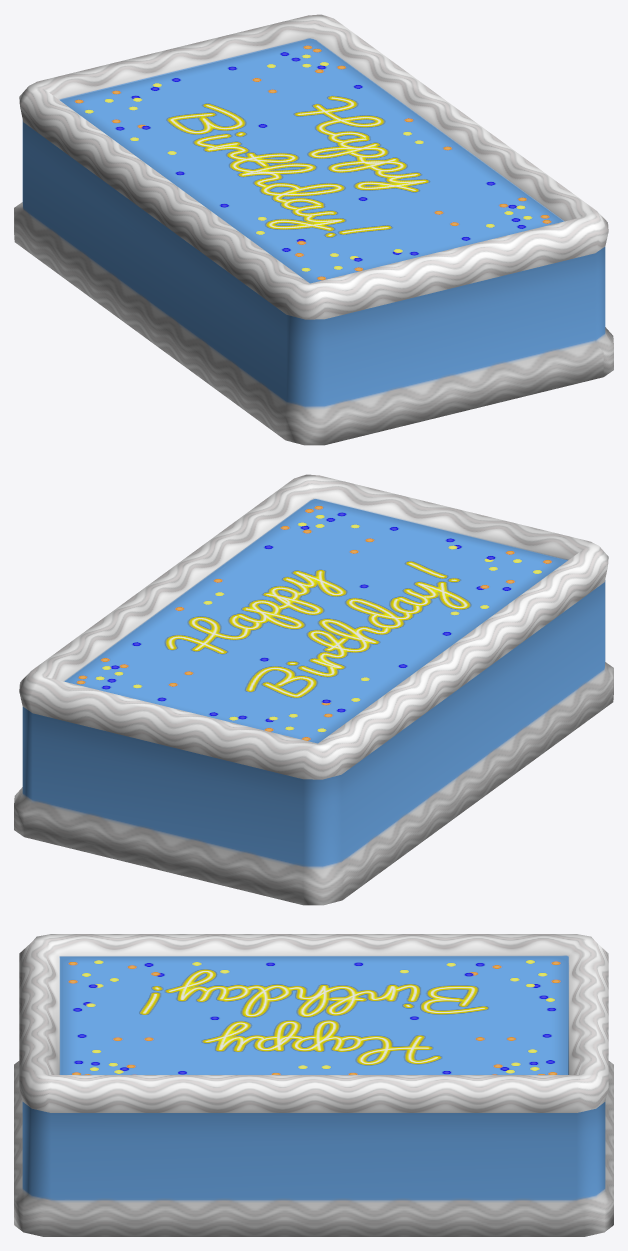
Rendered from Birthday_SheetCake.fbx.
The picture shows the model from 3 angles, top to bottom: view 1: azimuth 30°, elevation 25°; view 2: azimuth 150°, elevation 25°; view 3: azimuth 270°, elevation 25°; orthographic projection.
Parts seen in each view (by area): view 1: BDay_SheetCake; view 2: BDay_SheetCake; view 3: BDay_SheetCake.
Part boxes in pixels (x1,y1,x2,y2): BDay_SheetCake: [14, 14, 613, 445]; BDay_SheetCake: [14, 474, 613, 905]; BDay_SheetCake: [14, 934, 613, 1236].
Size of the model in its own units: 76.45 by 33.31 by 121.
